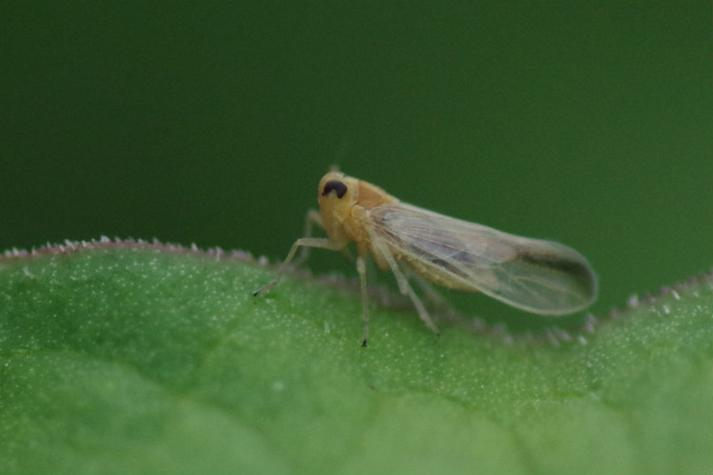Cicadellidae: (293, 168, 599, 322)
